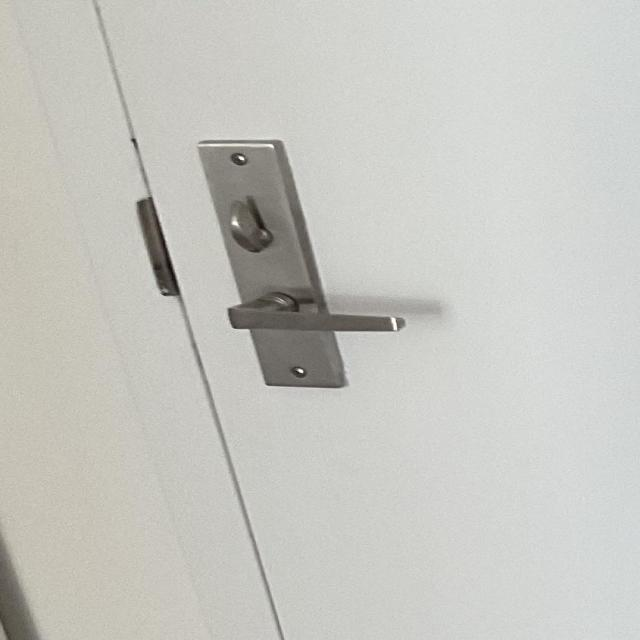door_handle: (210, 275, 420, 356)
